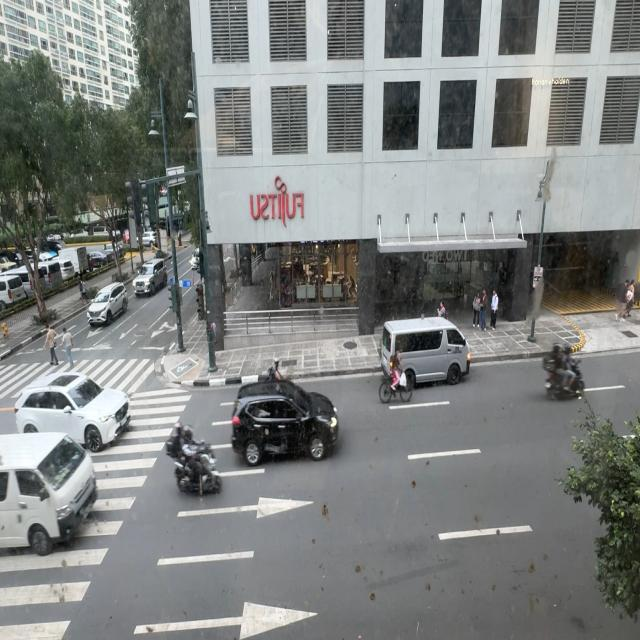waiting: (478, 292, 486, 332)
